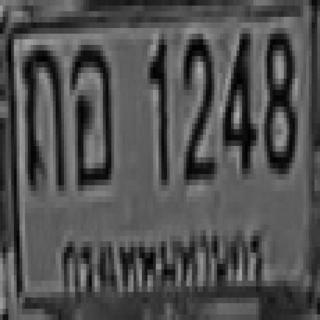A22: (19, 42, 64, 188)
A43: (70, 42, 111, 182)
N01: (148, 34, 167, 180)
N02: (182, 31, 213, 177)
N04: (220, 28, 253, 168)
N08: (263, 28, 294, 168)
P04: (55, 219, 269, 308)
